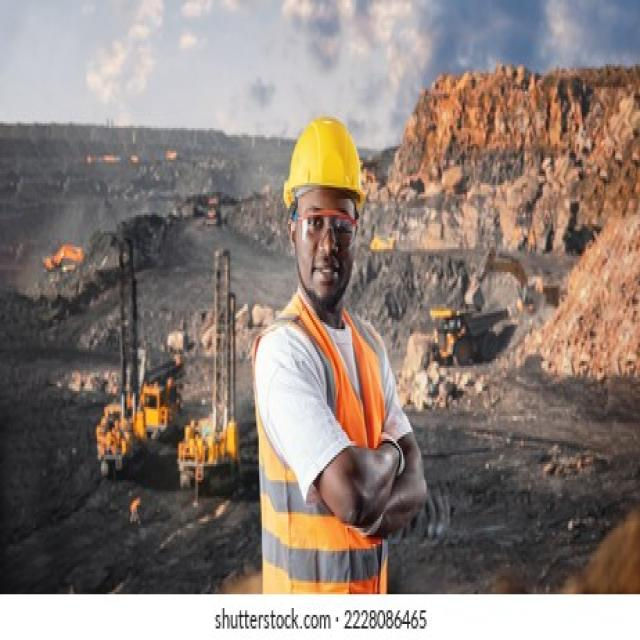dump_truck: (428, 288, 511, 373)
excavator: (460, 226, 564, 314)
